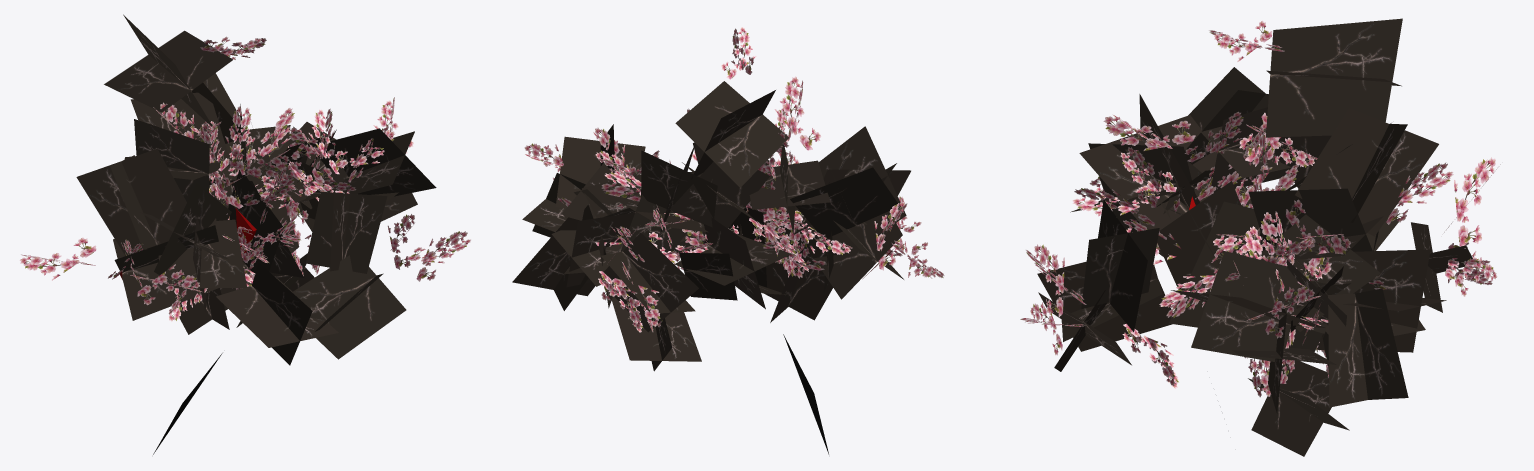
File: sakura2 lod3.FBX
3 views of the same model, side by side, from view 1: azimuth 30°, elevation 25°; view 2: azimuth 150°, elevation 25°; view 3: azimuth 270°, elevation 25° (orthographic). The views are drawn at different scales.
Visible parts, largest first — view 1: sakura2_LOD3; view 2: sakura2_LOD3; view 3: sakura2_LOD3.
Boxes of the visible parts, box(x1,y1,x2,y2) form: sakura2_LOD3: box(19, 14, 470, 454); sakura2_LOD3: box(512, 27, 944, 454); sakura2_LOD3: box(1020, 18, 1500, 456).
Bounding box in the file's own units: 71895 × 67976 × 65901.
